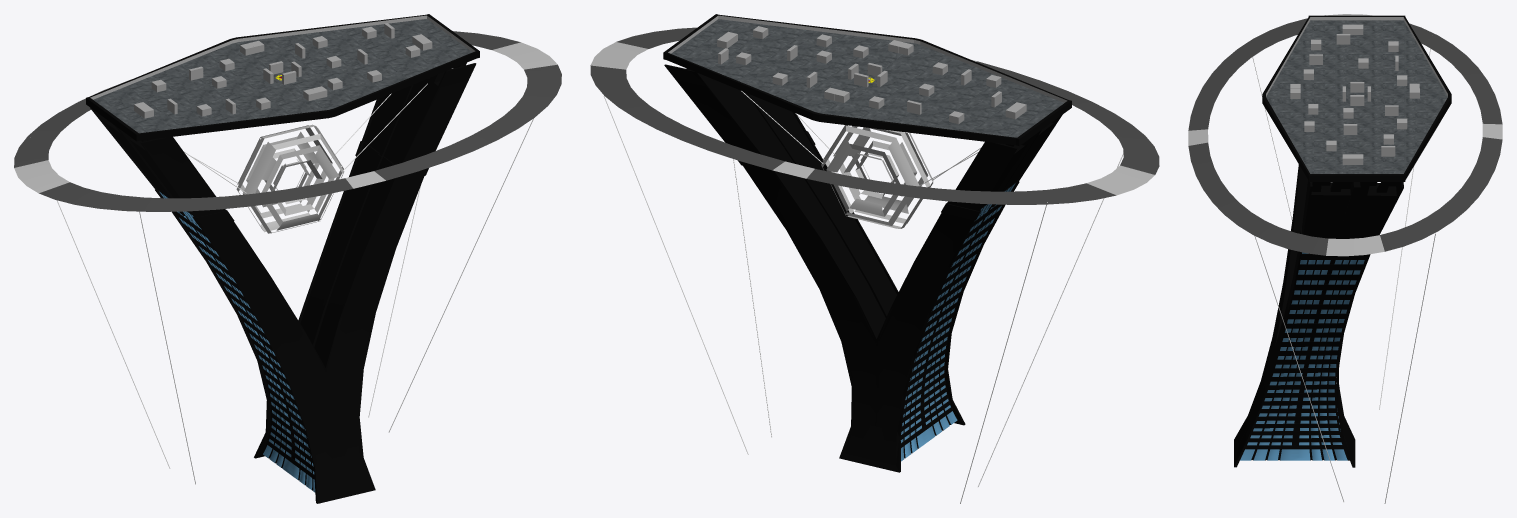
Rendered from base_suelo.fbx.
The picture shows the model from 3 angles, left to right: view 1: azimuth 30°, elevation 25°; view 2: azimuth 150°, elevation 25°; view 3: azimuth 270°, elevation 25°; orthographic projection. The views are drawn at different scales.
Visible parts, largest first — view 1: Building06, pTorus4, BaseMariano:Base2, BaseMariano:Base, pTorus1; view 2: Building06, pTorus4, BaseMariano:Base2, BaseMariano:Base, pTorus1; view 3: Building06, pTorus4, BaseMariano:Base, BaseMariano:Base2, pCylinder5, pCylinder6.
Boxes of the visible parts, box(x1,y1,x2,y2) form: Building06: box(90, 62, 476, 503); pTorus4: box(14, 31, 561, 211); BaseMariano:Base2: box(86, 38, 332, 141); BaseMariano:Base: box(233, 14, 479, 117); pTorus1: box(236, 124, 344, 233); Building06: box(664, 64, 1062, 472); pTorus4: box(590, 27, 1159, 204); BaseMariano:Base2: box(816, 39, 1071, 146); BaseMariano:Base: box(663, 14, 918, 120); pTorus1: box(821, 125, 933, 228); Building06: box(1234, 164, 1403, 467); pTorus4: box(1188, 14, 1502, 256); BaseMariano:Base: box(1262, 95, 1451, 181); BaseMariano:Base2: box(1262, 15, 1451, 98); pCylinder5: box(1254, 236, 1344, 501); pCylinder6: box(1384, 233, 1435, 503).
Size of the model in its own units: 15.21 by 10.74 by 8.28.
11 materials, 2 textured.
